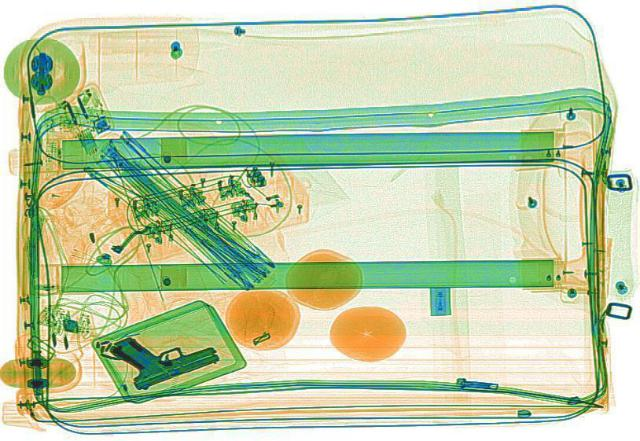Gun: (96, 314, 224, 390)
